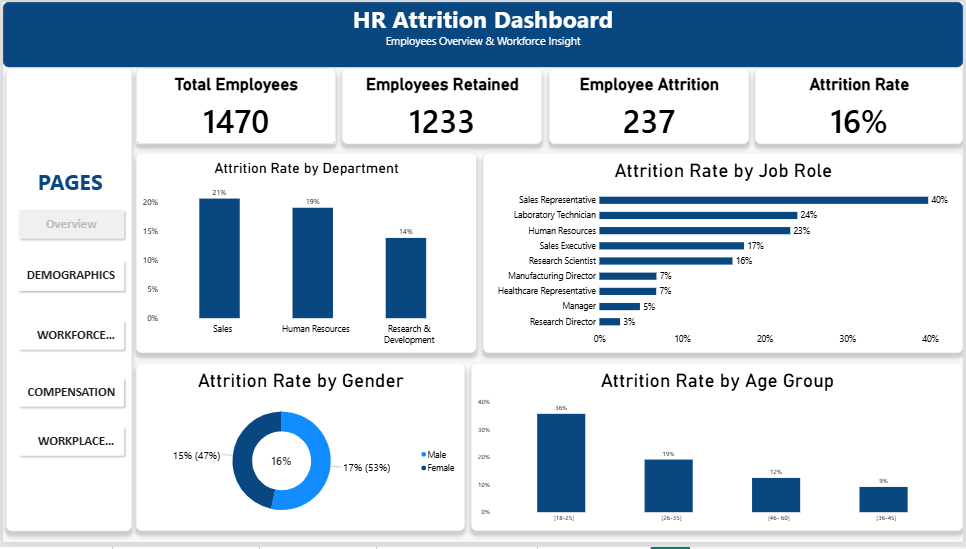

The dashboard page shown, as its layout file describes it:
{"tool":"powerbi","page":{"name":"Demographic","canvas":[1921,1080],"ordinal":0},"visuals":[{"type":"textbox","box":[0,0,1920,113.4],"z":0},{"type":"card","title":"Attrition Rate","fields":{"Values":["IBM_HR_Employee_Attrition.Attrition Rate"]},"box":[1449.4,116.6,470,170],"z":1000},{"type":"card","title":"Total Employees","fields":{"Values":["CountNonNull(IBM_HR_Employee_Attrition.Employee Number)"]},"box":[2.2,116.6,468.7,170.6],"z":2000},{"type":"card","title":"Employee Attrition","fields":{"Values":["Sum(IBM_HR_Employee_Attrition.Attrition Count)"]},"box":[967.7,116.6,468.7,170.6],"z":3000},{"type":"card","title":"Employees Retained","fields":{"Values":["IBM_HR_Employee_Attrition.Employees Retained"]},"box":[483.8,116.6,470.9,170.6],"z":4000},{"type":"columnChart","title":"Attrition Rate by Age Group","fields":{"Category":["IBM_HR_Employee_Attrition.Age Group"],"Y":["IBM_HR_Employee_Attrition.Attrition Rate"]},"box":[0,293.8,954.7,425.5],"z":5000},{"type":"donutChart","title":"Attrition Rate by Gender","fields":{"Category":["IBM_HR_Employee_Attrition.Gender"],"Y":["IBM_HR_Employee_Attrition.Attrition Rate"]},"box":[2.2,734.4,952.6,334.8],"z":6000},{"type":"clusteredBarChart","title":"Attrition Rate by Marital Status","fields":{"Category":["IBM_HR_Employee_Attrition.Marital Status"],"Y":["IBM_HR_Employee_Attrition.Attrition Rate"]},"box":[967.7,293.8,952.6,343.4],"z":7000},{"type":"scatterChart","title":"Attrition Rate by Distance From Home Group","fields":{"Size":["CountNonNull(IBM_HR_Employee_Attrition.Employee Count)"],"X":["IBM_HR_Employee_Attrition.Distance From Home Group"],"Y":["IBM_HR_Employee_Attrition.Attrition Rate"]},"box":[967.7,650.2,952.6,419],"z":8000},{"type":"actionButton","box":[1795,0,122.5,65],"z":9000},{"type":"slicer","fields":{"Values":["IBM_HR_Employee_Attrition.Gender"]},"box":[1365.1,19.4,162,75.6],"z":10000},{"type":"slicer","fields":{"Values":["IBM_HR_Employee_Attrition.Department"]},"box":[1550.9,19.4,177.1,75.6],"z":11000}]}

Visuals, with their boxes in screenshot pixels (x1, y1, x2, y2), scaled from the page's 1921x1080 canvas onto the 966x549 screenshot:
textbox: (x1=0, y1=0, x2=965, y2=58)
"Attrition Rate" card: (x1=729, y1=59, x2=965, y2=146)
"Total Employees" card: (x1=1, y1=59, x2=237, y2=146)
"Employee Attrition" card: (x1=487, y1=59, x2=722, y2=146)
"Employees Retained" card: (x1=243, y1=59, x2=480, y2=146)
"Attrition Rate by Age Group" columnChart: (x1=0, y1=149, x2=480, y2=366)
"Attrition Rate by Gender" donutChart: (x1=1, y1=373, x2=480, y2=544)
"Attrition Rate by Marital Status" clusteredBarChart: (x1=487, y1=149, x2=965, y2=324)
"Attrition Rate by Distance From Home Group" scatterChart: (x1=487, y1=331, x2=965, y2=544)
actionButton: (x1=903, y1=0, x2=964, y2=33)
slicer - IBM_HR_Employee_Attrition.Gender: (x1=686, y1=10, x2=768, y2=48)
slicer - IBM_HR_Employee_Attrition.Department: (x1=780, y1=10, x2=869, y2=48)
